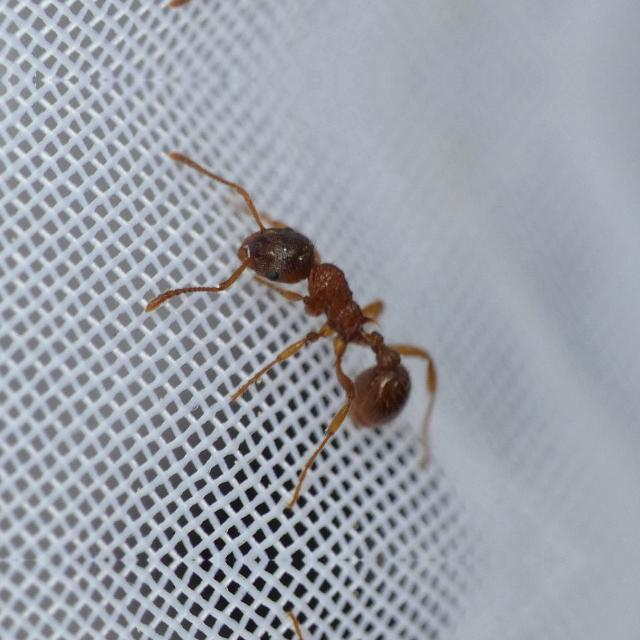Myrmica: (162, 136, 448, 440)
